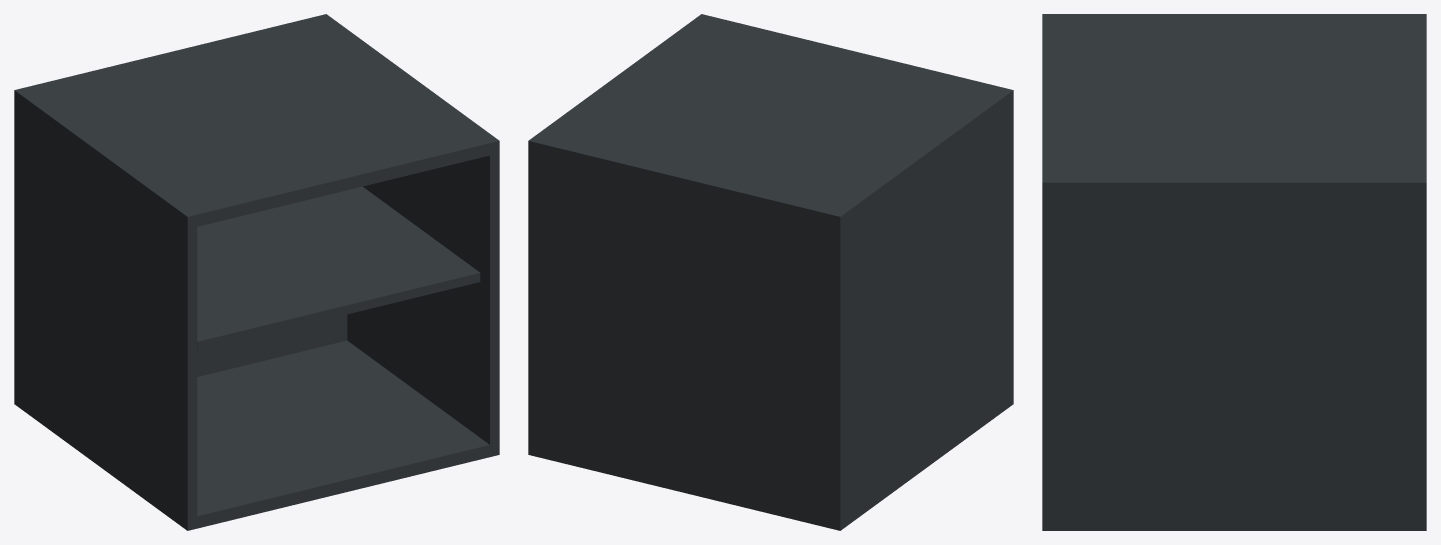
File: Furniture_04.fbx
3 renders of one model, left to right at view 1: azimuth 30°, elevation 25°; view 2: azimuth 150°, elevation 25°; view 3: azimuth 270°, elevation 25°, orthographic. The views are drawn at different scales.
Visible parts, largest first — view 1: Furniture_04; view 2: Furniture_04; view 3: Furniture_04.
Boxes of the visible parts, x1,y1,x2,y2 form: Furniture_04: (14,14,499,530); Furniture_04: (528,14,1013,530); Furniture_04: (1042,14,1426,530).
Size of the model in its own units: 56.89 by 54.71 by 54.71.
